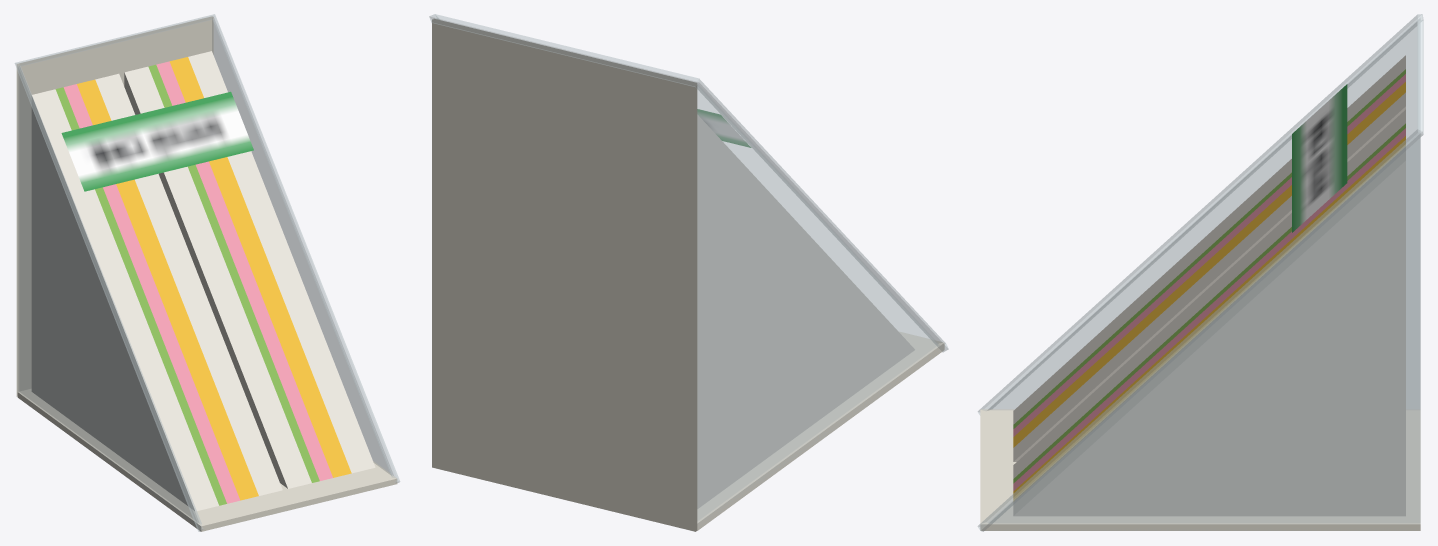
File: SC_Prod_Sandwich.gltf
The picture shows the model from 3 angles, left to right: view 1: azimuth 30°, elevation 25°; view 2: azimuth 150°, elevation 25°; view 3: azimuth 270°, elevation 25°; orthographic projection. The views are drawn at different scales.
Parts seen in each view (by area): view 1: SC_Prod_Sandwich; view 2: SC_Prod_Sandwich; view 3: SC_Prod_Sandwich.
Part boxes in pixels (x1,y1,x2,y2): SC_Prod_Sandwich: [14, 14, 400, 531]; SC_Prod_Sandwich: [429, 14, 948, 531]; SC_Prod_Sandwich: [977, 14, 1423, 531].
Bounding box in the file's own units: 0.0764 × 0.1212 × 0.1217.
Materials: 3 (3 with a texture image).
